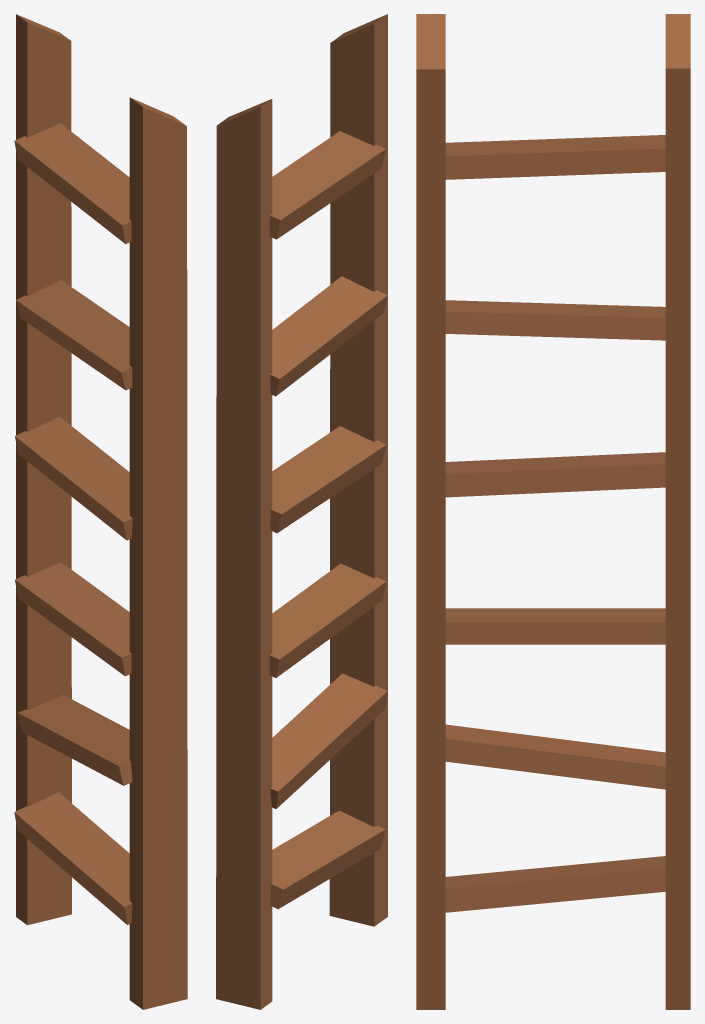
Rendered from ladder.gltf.
The picture shows the model from 3 angles, left to right: view 1: azimuth 30°, elevation 25°; view 2: azimuth 150°, elevation 25°; view 3: azimuth 270°, elevation 25°; orthographic projection. The views are drawn at different scales.
Parts seen in each view (by area): view 1: Cube.001, Cube, Cube.002, Cube.005, Cube.007, Cube.004, Cube.006, Cube.003; view 2: Cube, Cube.001, Cube.003, Cube.006, Cube.004, Cube.007, Cube.005, Cube.002; view 3: Cube.001, Cube, Cube.003, Cube.007, Cube.004, Cube.002, Cube.005, Cube.006.
Part boxes in pixels (x1,y1,x2,y2): Cube.001: [129, 97, 187, 1009]; Cube: [16, 14, 71, 925]; Cube.002: [14, 792, 132, 924]; Cube.005: [15, 417, 132, 540]; Cube.007: [14, 123, 131, 244]; Cube.004: [15, 562, 131, 676]; Cube.006: [16, 280, 132, 390]; Cube.003: [18, 695, 132, 785]; Cube: [216, 99, 272, 1009]; Cube.001: [329, 14, 387, 926]; Cube.003: [270, 673, 387, 808]; Cube.006: [270, 276, 387, 396]; Cube.004: [269, 563, 386, 677]; Cube.007: [269, 131, 385, 239]; Cube.005: [270, 426, 386, 533]; Cube.002: [270, 810, 385, 908]; Cube.001: [416, 14, 445, 1009]; Cube: [665, 14, 690, 1009]; Cube.003: [445, 724, 665, 789]; Cube.007: [445, 135, 665, 179]; Cube.004: [445, 608, 665, 644]; Cube.002: [445, 856, 665, 912]; Cube.005: [445, 452, 665, 497]; Cube.006: [445, 300, 665, 340].
Bounding box in the file's own units: 0.3837 × 5.84 × 1.49.
